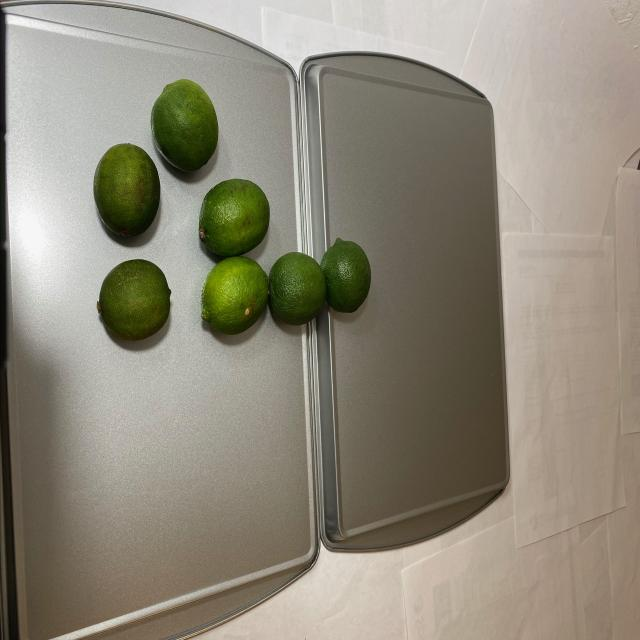lemon: (83, 76, 375, 342)
